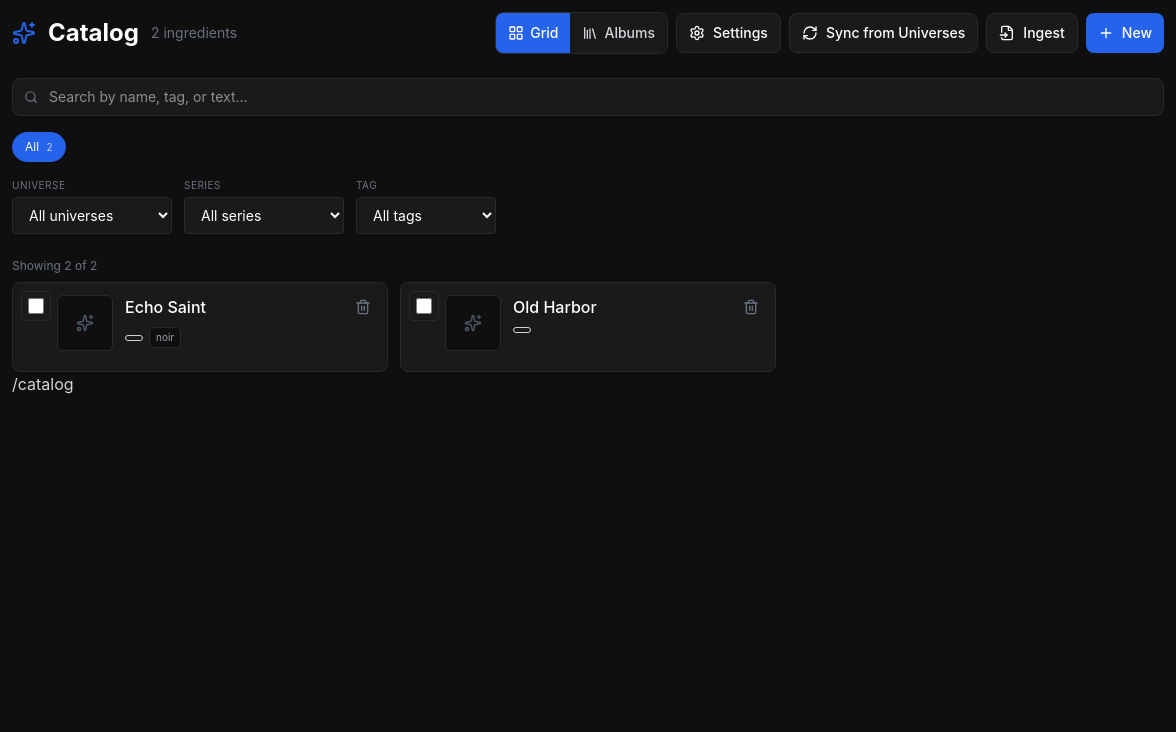
Test case: Catalog page › creates an ingredient and optimistically prepends it
The width and height of the screenshot is (1176, 732).
Expected: the text "Echo Saint" is shown, [125,297,206,317]
Step 1. Click the button "New" → (1125, 33), box [1086,13,1164,53]
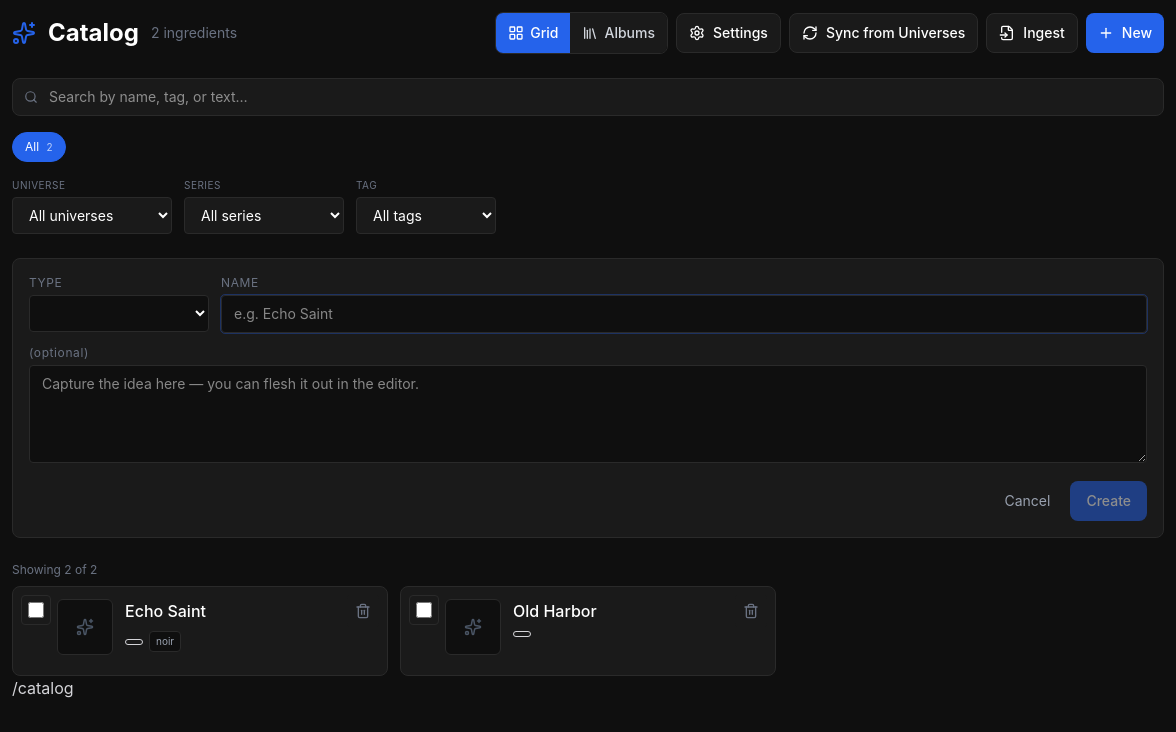
Step 2. Type "New Idea" into the field labelled "Name" → (684, 314), box [221,295,1147,333]
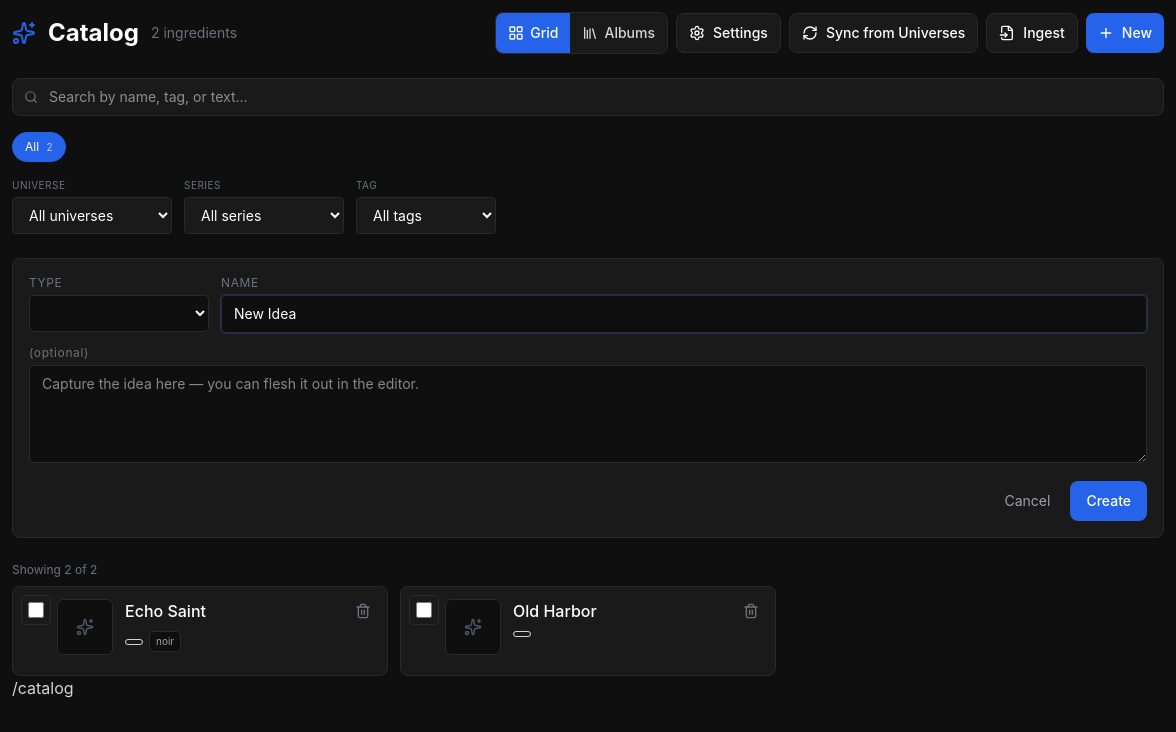
Step 3. Submit the form labelled "Type Name (optional) Cancel Create", box [12,258,1164,538]
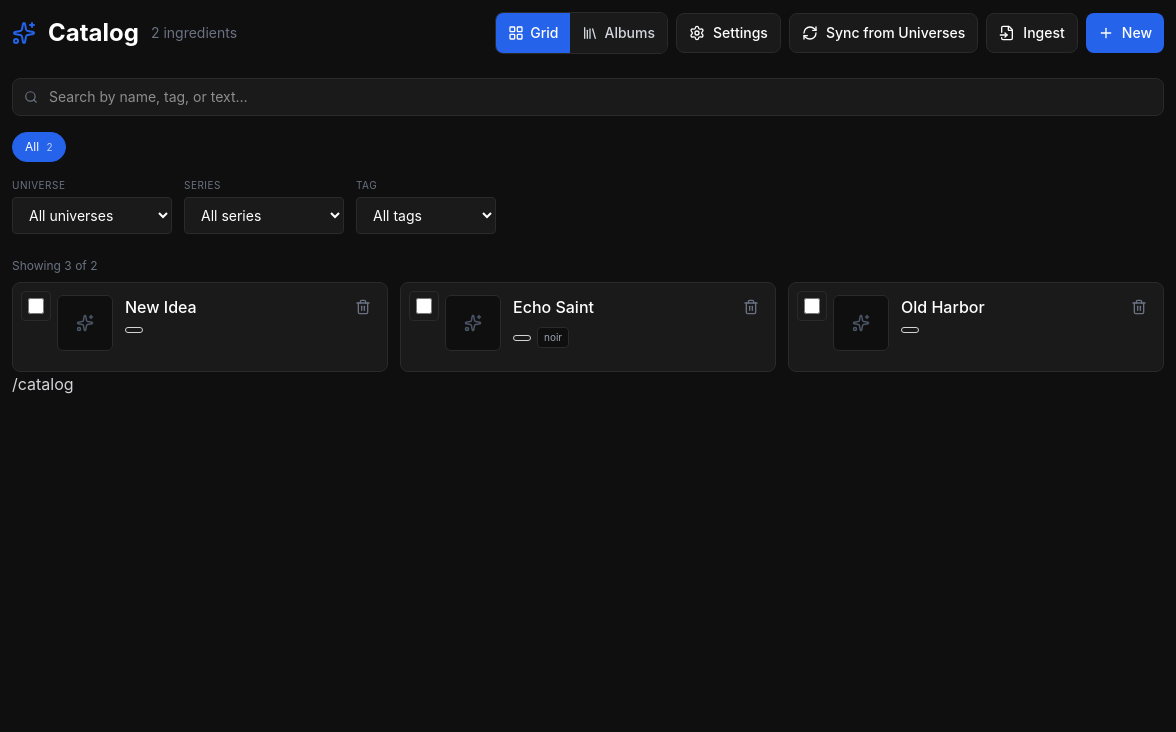
Expected: the text "New Idea" is shown, [125,297,197,317]
